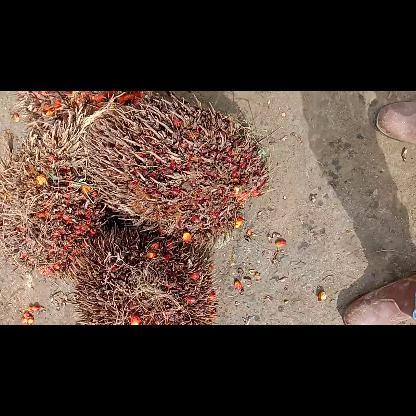Terlalu masak: (81, 98, 269, 240), (0, 110, 104, 276), (70, 224, 218, 324), (16, 91, 152, 121)
